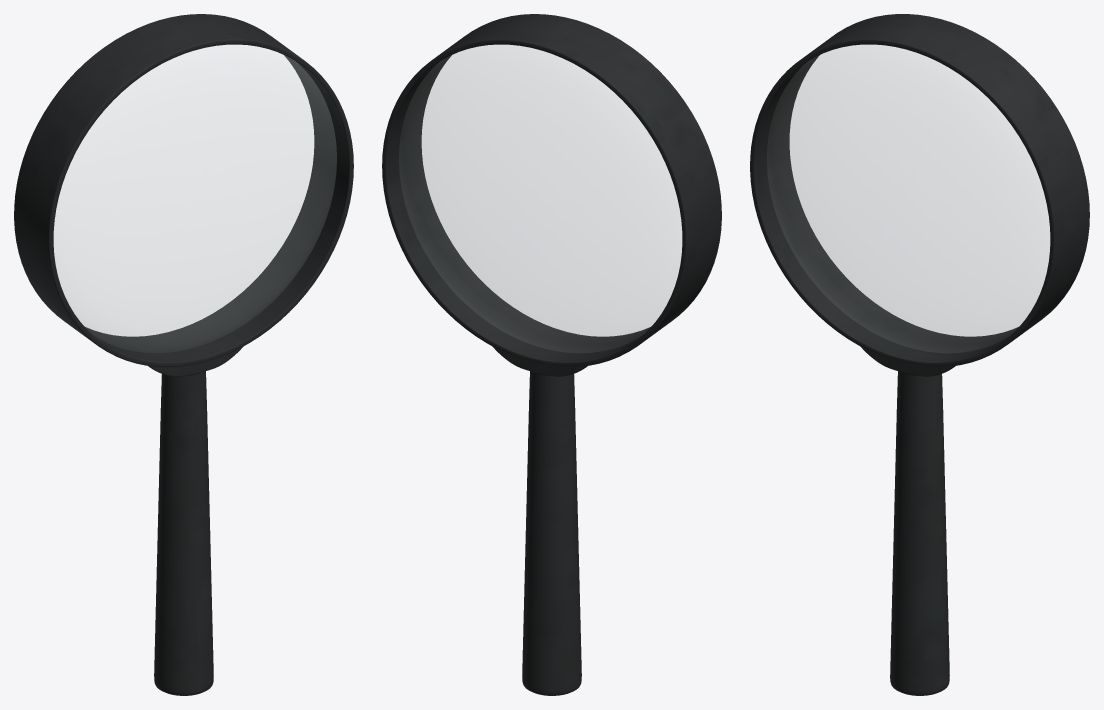
The model's file is magnifying_glass_01.glb.
The picture shows the model from 3 angles, left to right: view 1: azimuth 30°, elevation 25°; view 2: azimuth 150°, elevation 25°; view 3: azimuth 330°, elevation 25°; orthographic projection.
Parts seen in each view (by area): view 1: magnifying_glass_01; view 2: magnifying_glass_01; view 3: magnifying_glass_01.
Boxes of the visible parts, box(x1,y1,x2,y2) form: magnifying_glass_01: box(14, 14, 353, 695); magnifying_glass_01: box(382, 14, 721, 695); magnifying_glass_01: box(750, 14, 1089, 695).
Bounding box in the file's own units: 0.1321 × 0.2716 × 0.0267.
2 materials, 1 textured.
